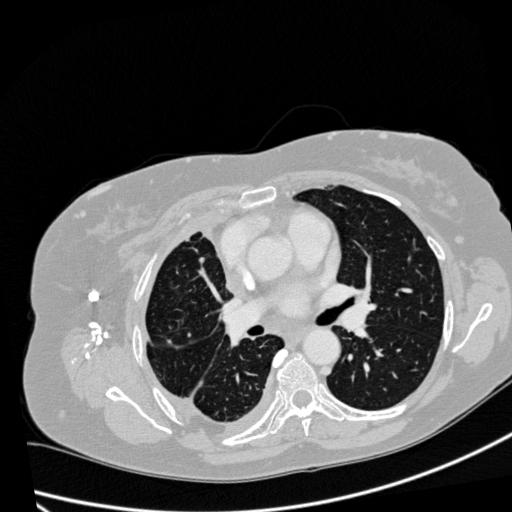nodule: (196, 255, 206, 265)
